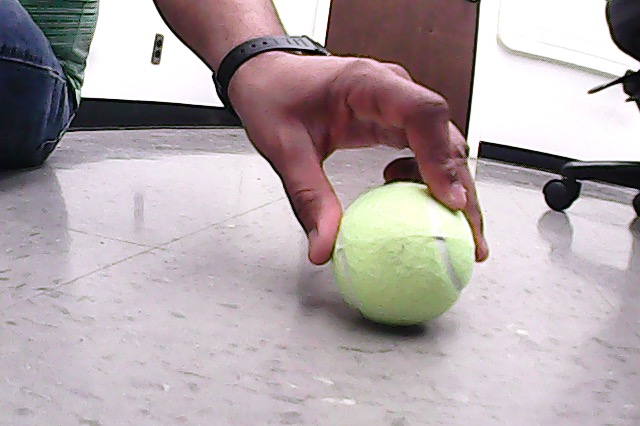ball: (329, 179, 479, 329)
